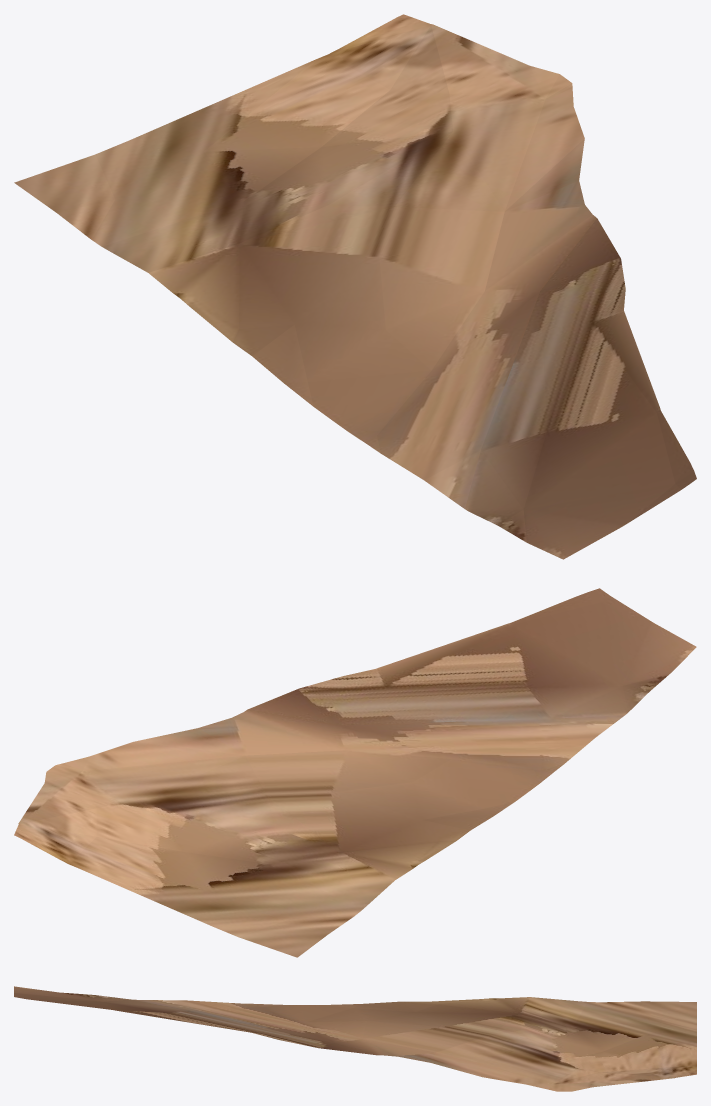
3 renders of one model, top to bottom at view 1: azimuth 30°, elevation 25°; view 2: azimuth 150°, elevation 25°; view 3: azimuth 270°, elevation 25°, orthographic. The views are drawn at different scales.
Bounding box in the file's own units: 0.4891 × 0.082 × 1.04.
Materials: 1 (1 with a texture image).
